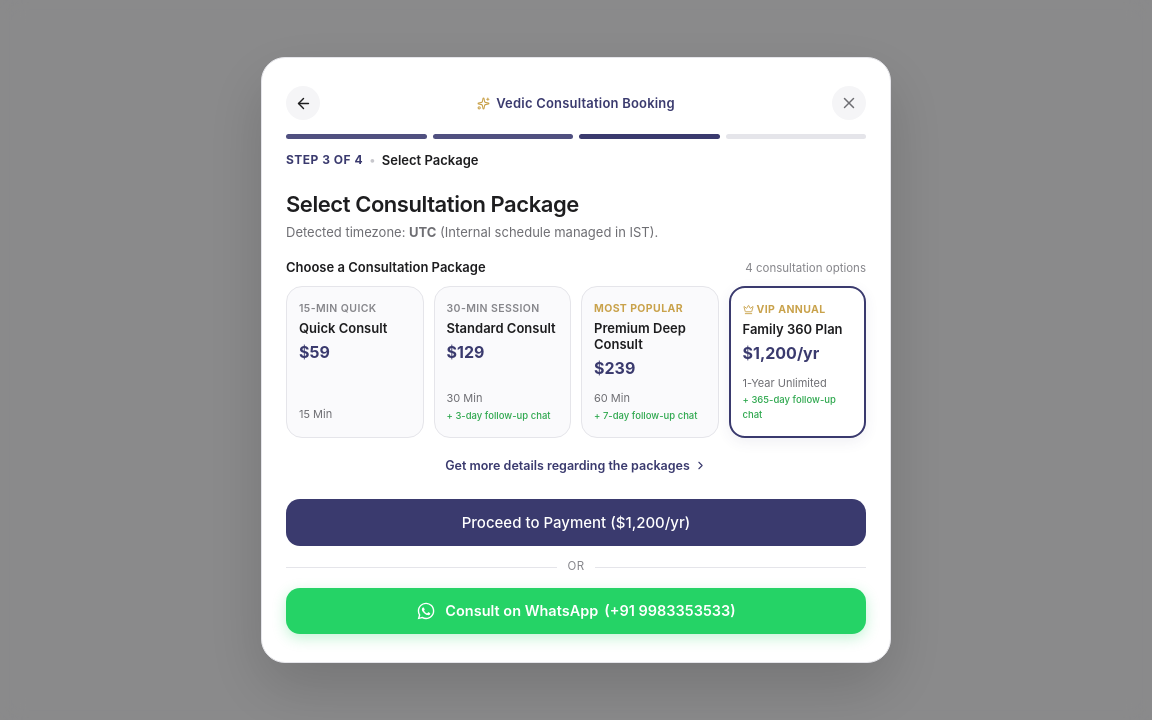
BookingModal Component Tests › allows jumping back to completed steps via step progress bar tabs
Expected: the text "Step 3 of 4" is shown, [286,151,363,169]
Expected: the text "Select Package" is shown, [382,151,478,170]
Click the tab named "Step 1: Profile" at [356, 137], box [286,134,426,139]
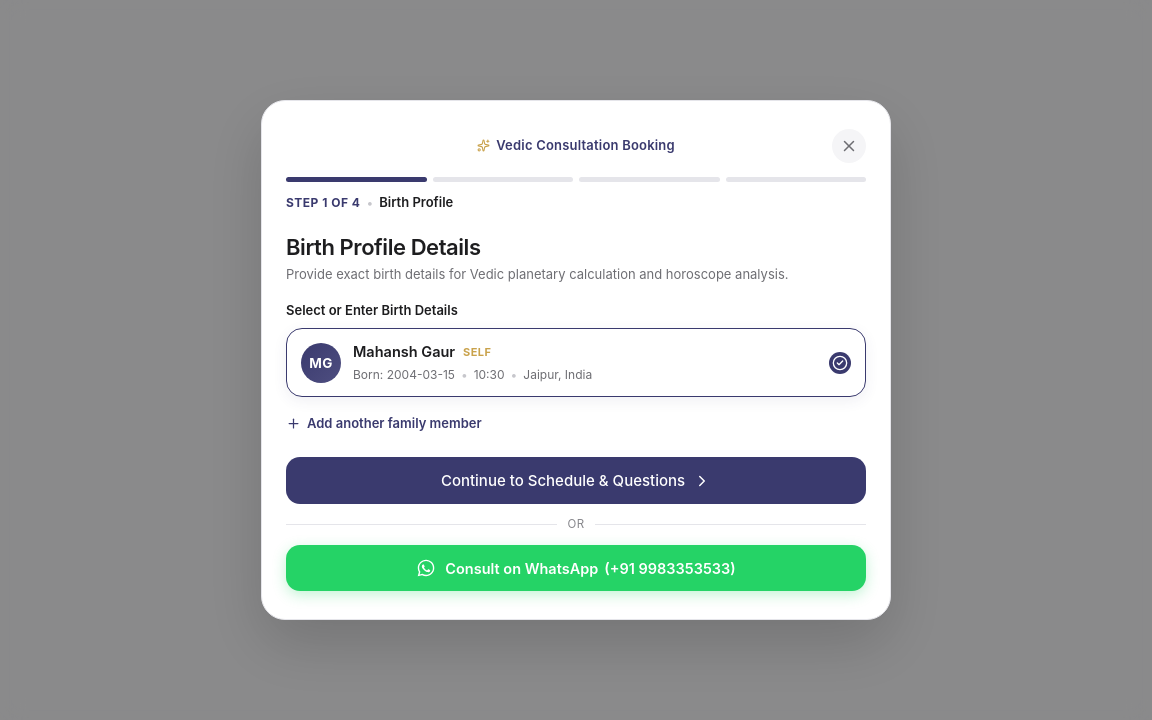
Result: the text "Step 1 of 4" is shown at [286,194,360,212]
Result: the text "Birth Profile" is shown at [379,193,453,212]
